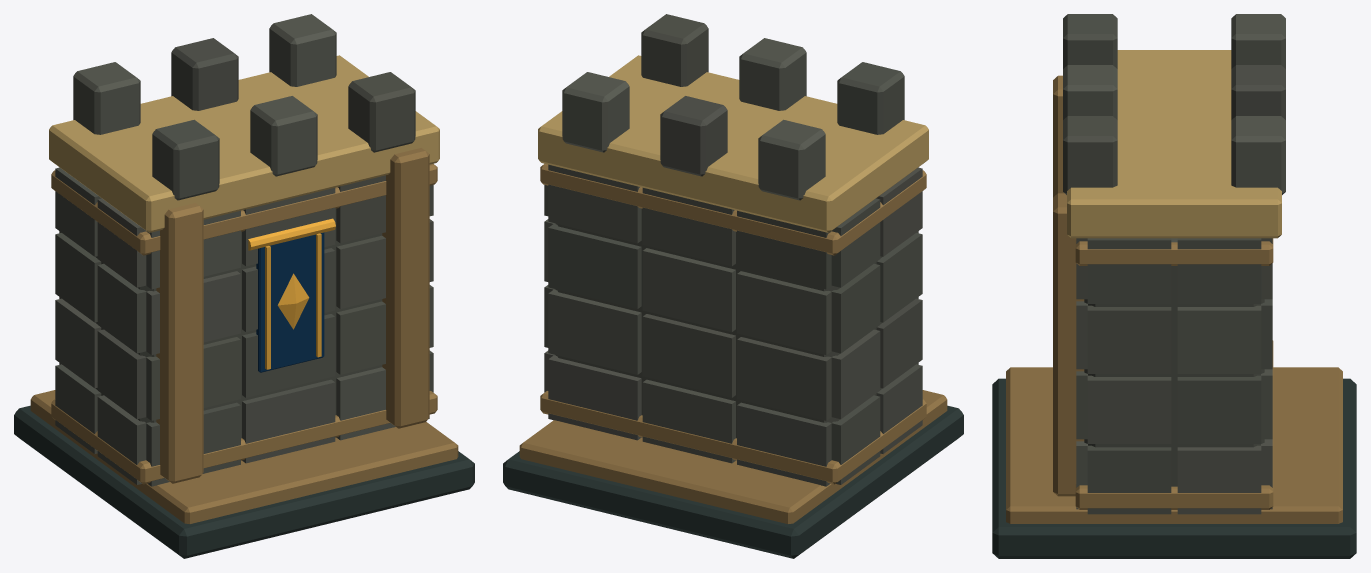
File: wall.glb
3 renders of one model, left to right at view 1: azimuth 30°, elevation 25°; view 2: azimuth 150°, elevation 25°; view 3: azimuth 270°, elevation 25°, orthographic. The views are drawn at different scales.
Visible parts, largest first — view 1: wall_structure, wall_brass; view 2: wall_structure; view 3: wall_structure.
Boxes of the visible parts, box(x1,y1,x2,y2) form: wall_structure: box(14, 14, 474, 558); wall_brass: box(248, 218, 335, 369); wall_structure: box(503, 14, 963, 558); wall_structure: box(992, 14, 1356, 558).
Bounding box in the file's own units: 1.87 × 2.31 × 1.86.
